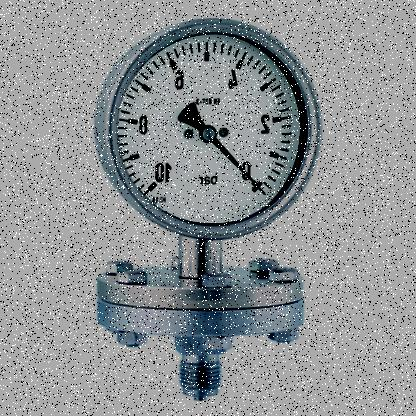needle: (211, 138, 267, 197)
